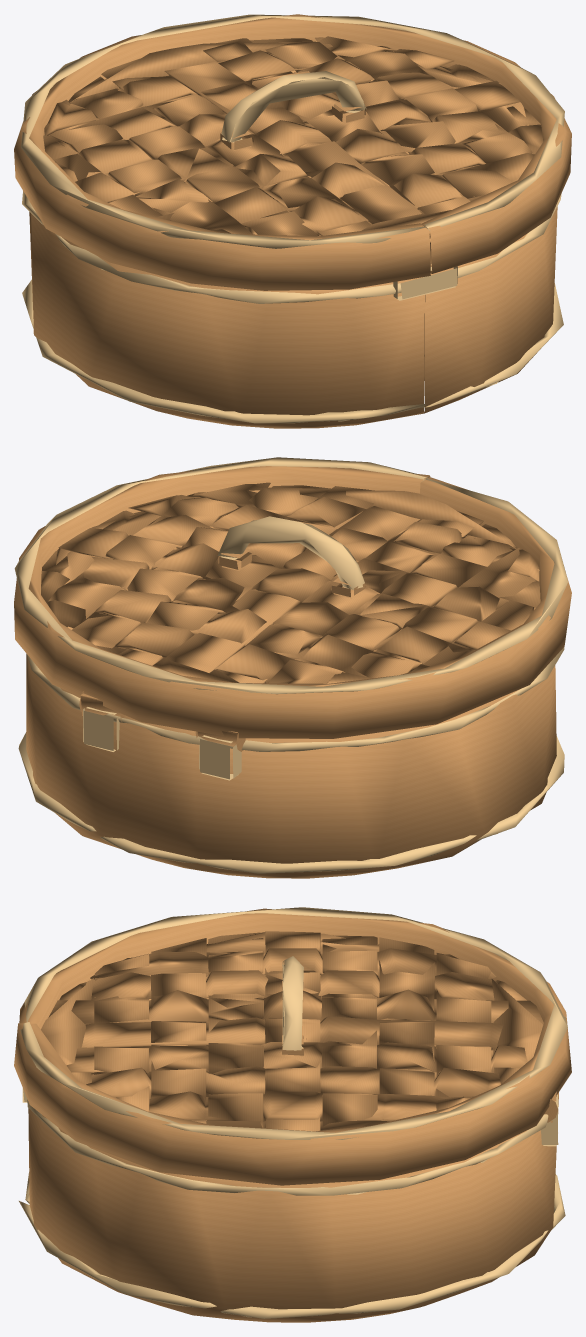
Rendered from bamboo-steamer-shelf-display.glb.
3 renders of one model, top to bottom at view 1: azimuth 30°, elevation 25°; view 2: azimuth 150°, elevation 25°; view 3: azimuth 270°, elevation 25°, orthographic.
Visible parts, largest first — view 1: Shelf steamer; view 2: Shelf steamer; view 3: Shelf steamer.
Part boxes in pixels (<box>): Shelf steamer: <box>14,14,571,428</box>; Shelf steamer: <box>14,457,571,878</box>; Shelf steamer: <box>14,907,571,1322</box>.
Size of the model in its own units: 1.34 by 0.6776 by 1.34.
3 materials, 1 textured.
